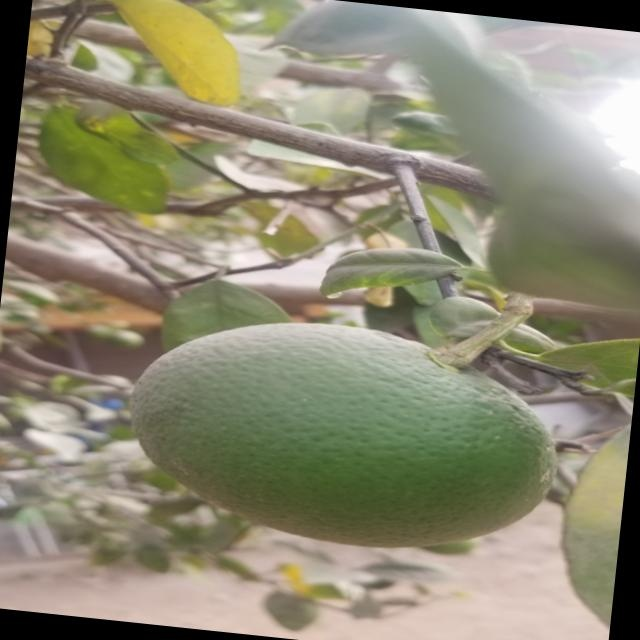agrume: (123, 315, 565, 560), (561, 398, 633, 629)
